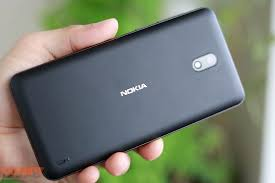nokia: (6, 4, 247, 179)
